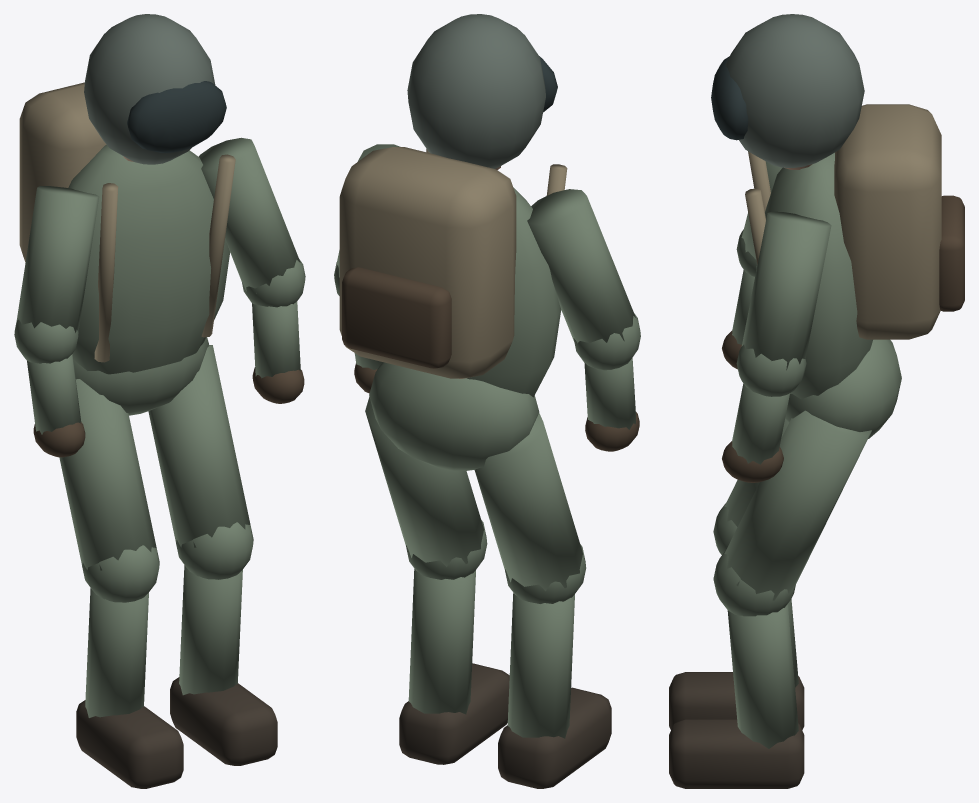
Rendered from SM_ExplorerStanding.fbx.
3 views of the same model, side by side, from view 1: azimuth 30°, elevation 25°; view 2: azimuth 150°, elevation 25°; view 3: azimuth 270°, elevation 25° (orthographic). The views are drawn at different scales.
Visible parts, largest first — view 1: SM_ExplorerStanding; view 2: SM_ExplorerStanding; view 3: SM_ExplorerStanding.
Boxes of the visible parts, x1=… form: SM_ExplorerStanding: x1=14, y1=14, x2=305, y2=788; SM_ExplorerStanding: x1=334, y1=14, x2=640, y2=788; SM_ExplorerStanding: x1=669, y1=14, x2=964, y2=788.
Size of the model in its own units: 72.2 by 175 by 63.5.
